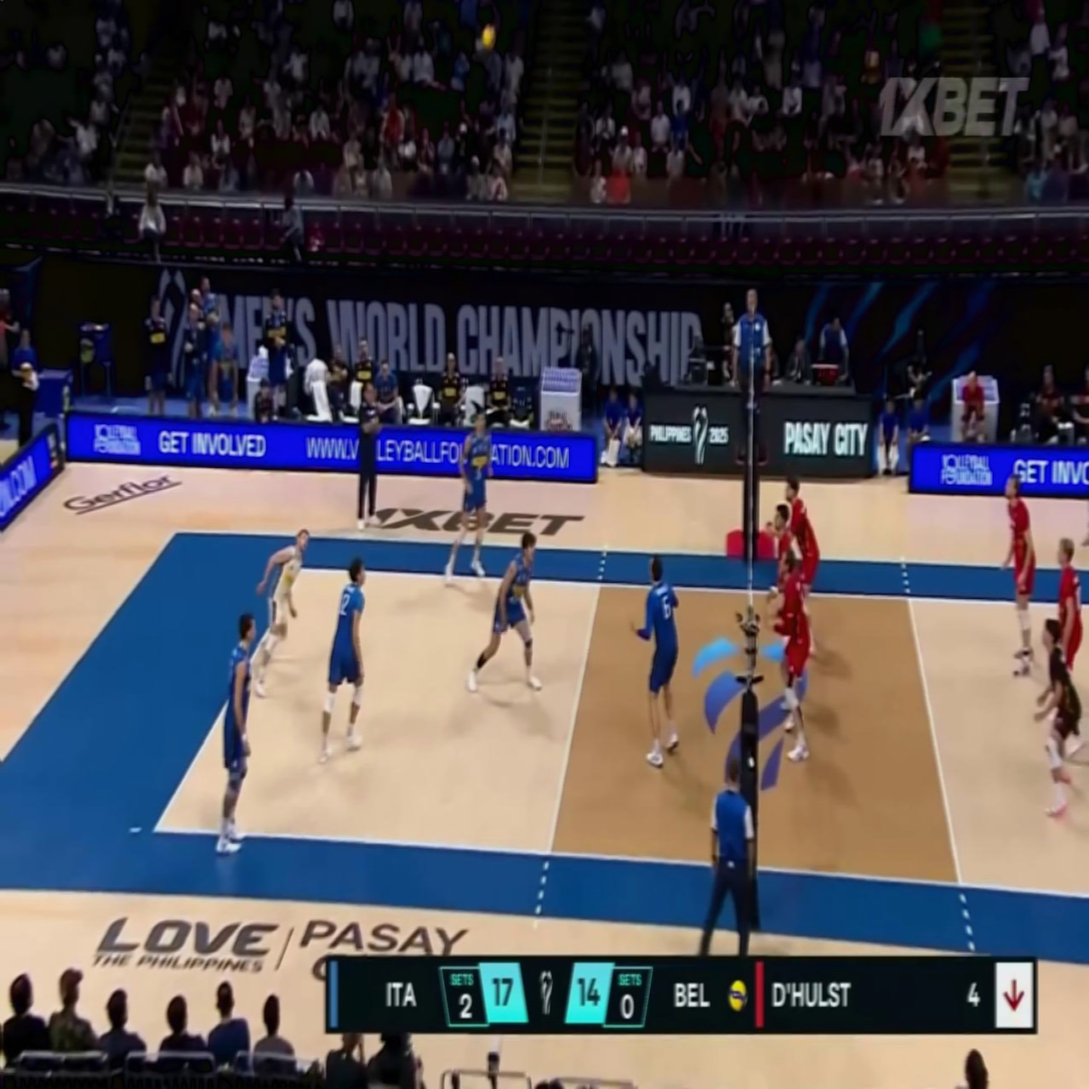ball: (480, 25, 495, 50)
